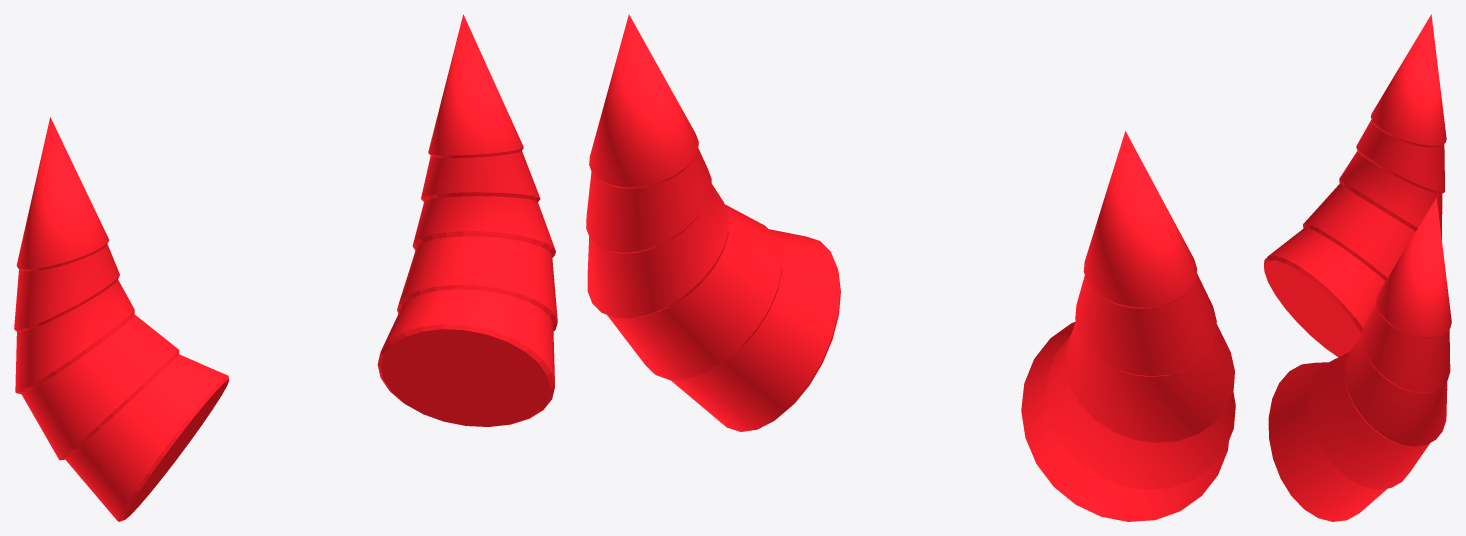
The model's file is bronzehelmet.fbx.
3 renders of one model, left to right at view 1: azimuth 30°, elevation 25°; view 2: azimuth 150°, elevation 25°; view 3: azimuth 270°, elevation 25°, orthographic. The views are drawn at different scales.
Parts seen in each view (by area): view 1: Horn; view 2: Horn; view 3: Horn.
Part boxes in pixels (<box>): Horn: <box>14,14,557,521</box>; Horn: <box>586,14,1235,521</box>; Horn: <box>1264,14,1451,521</box>.
Size of the model in its own units: 2.2 by 1.47 by 0.7496.
